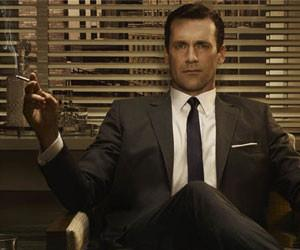cigarette: (16, 73, 32, 82)
